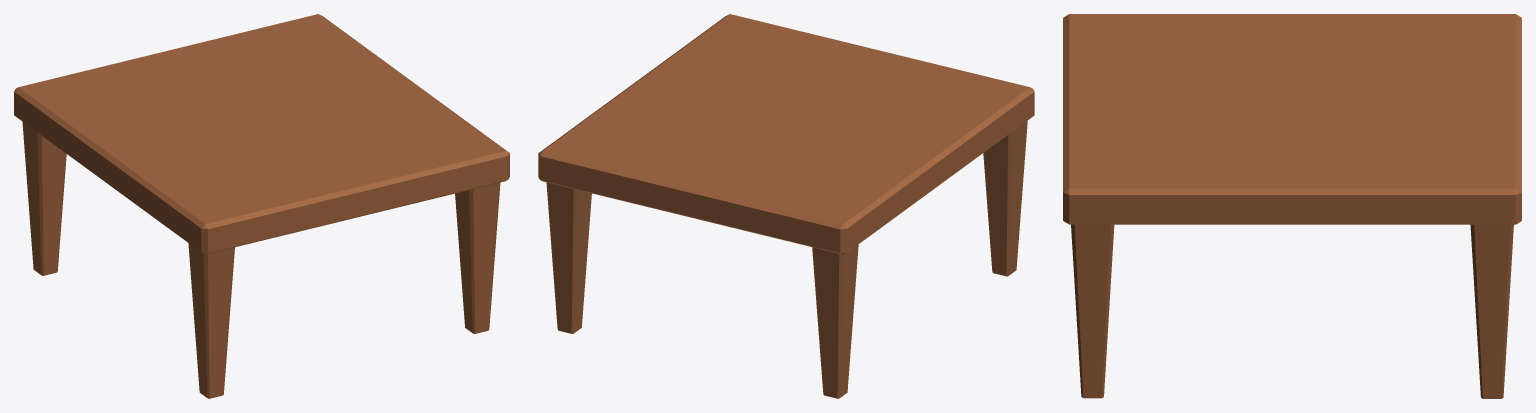
File: table_mini.gltf
The picture shows the model from 3 angles, left to right: view 1: azimuth 30°, elevation 25°; view 2: azimuth 150°, elevation 25°; view 3: azimuth 270°, elevation 25°; orthographic projection. The views are drawn at different scales.
Visible parts, largest first — view 1: Table B; view 2: Table B; view 3: Table B.
Boxes of the visible parts, <box> form: Table B: <box>14,14,509,398</box>; Table B: <box>538,14,1034,398</box>; Table B: <box>1063,14,1521,398</box>.
Size of the model in its own units: 3.3 by 1.85 by 3.56.
